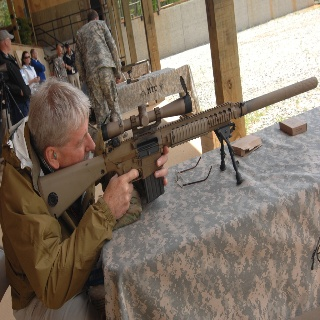rifle: (37, 75, 320, 218), (115, 57, 150, 73)
